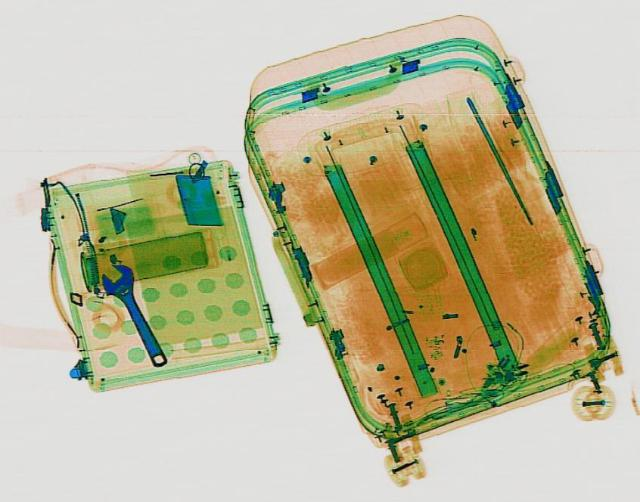Wrench: (92, 258, 178, 368)
